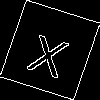X: (25, 25, 74, 79)
